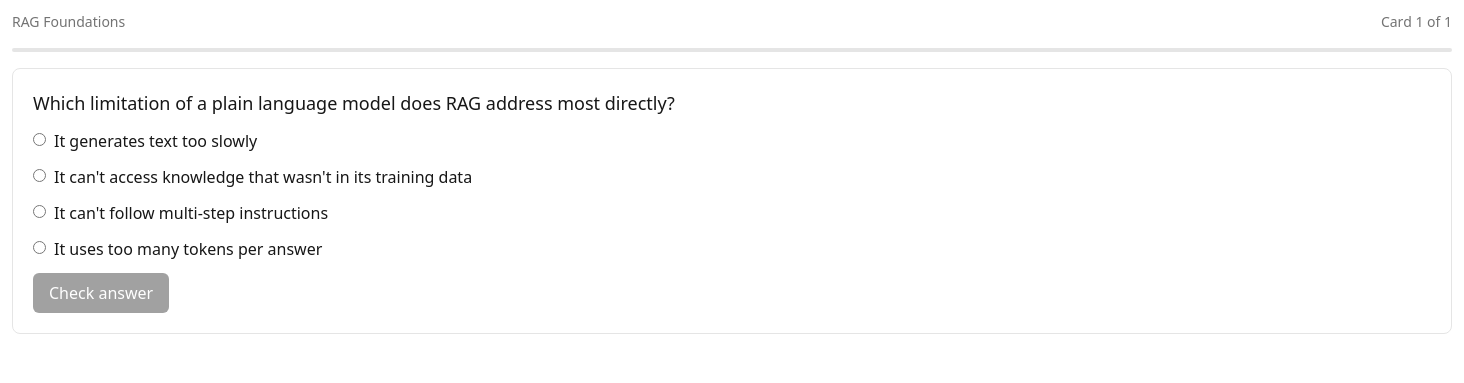
it: review card: select an option and reveal the answer › shows errors returned by the action
Click the radio button labelled "It can't access knowledge that wasn't in its training data". click: point(40, 176)
box: [33,169,46,182]
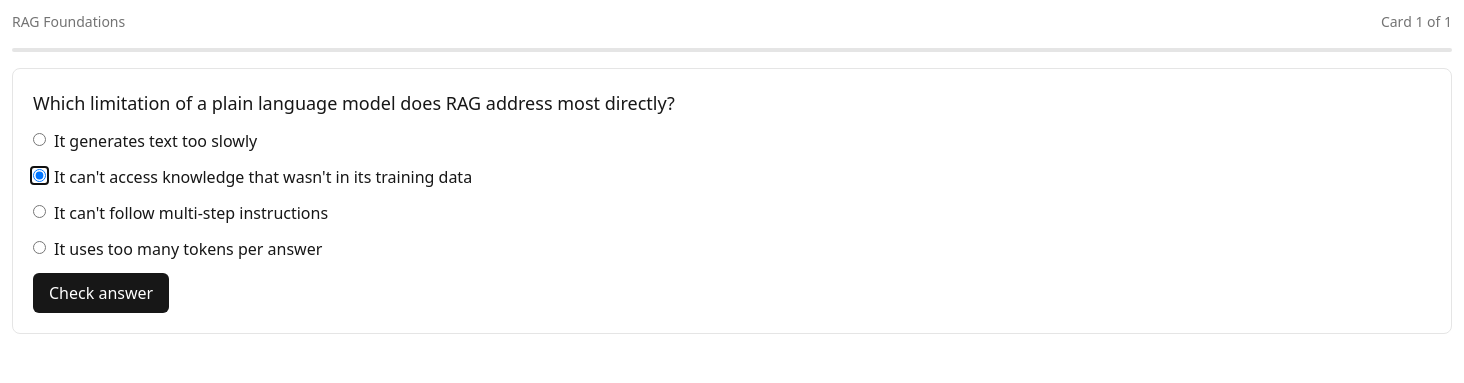
Click the button "Check answer". click: point(101, 293)
box: [33,273,169,313]
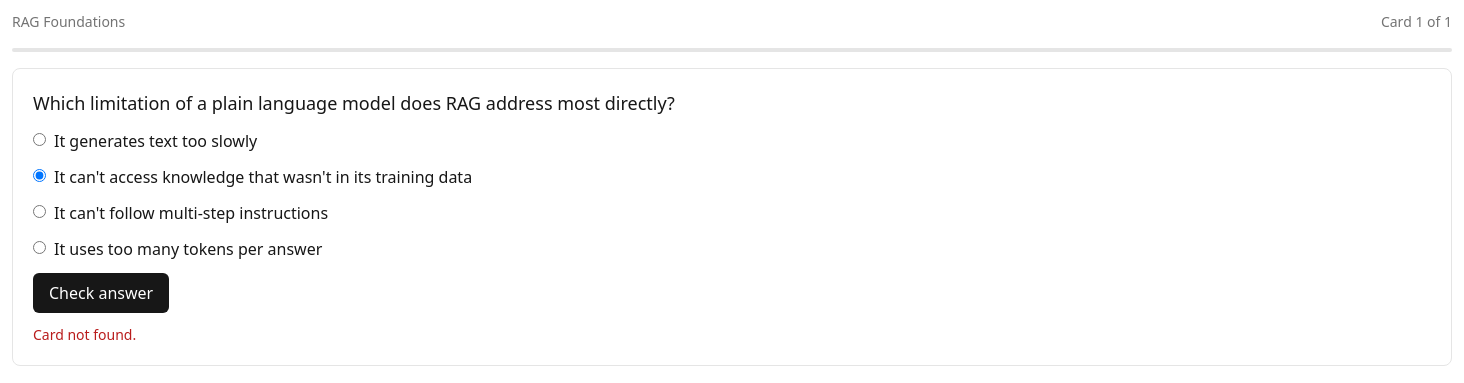
Expected: the message reads "Card not found.", [33,325,136,344]
